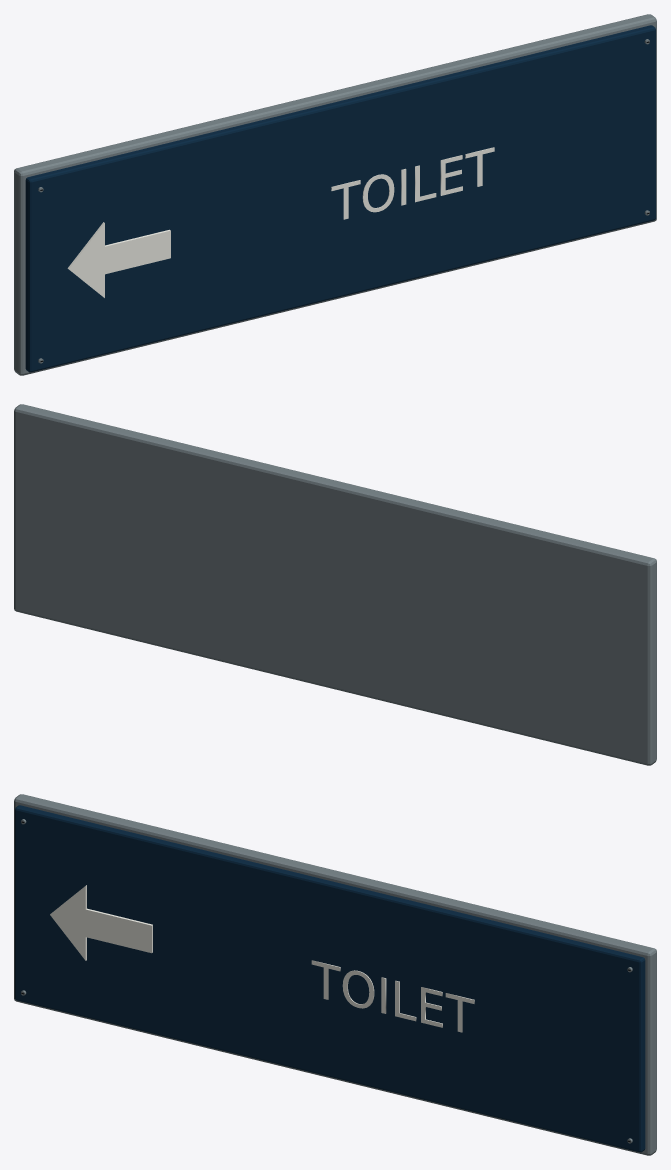
Rendered from OAA_Papan_Arah_Toilet_Kiri.fbx.
The picture shows the model from 3 angles, top to bottom: view 1: azimuth 30°, elevation 25°; view 2: azimuth 150°, elevation 25°; view 3: azimuth 330°, elevation 25°; orthographic projection.
Parts seen in each view (by area): view 1: Body; view 2: Body; view 3: Body.
Boxes of the visible parts, <box> form: Body: <box>14,14,656,375</box>; Body: <box>14,404,656,765</box>; Body: <box>14,794,656,1155</box>.
Size of the model in its own units: 0.85 by 0.26 by 0.0325.
